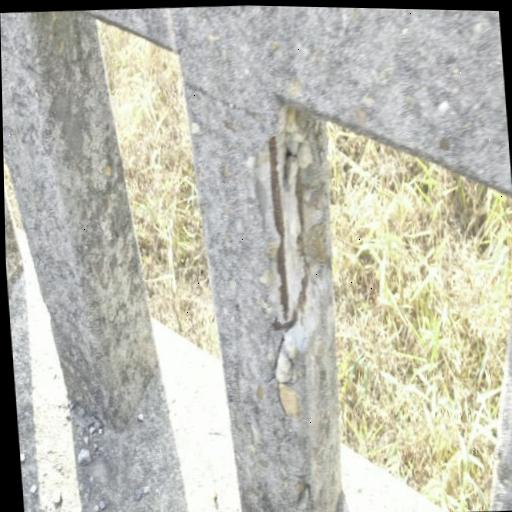exposed_rebar: (269, 137, 289, 320)
spalling: (268, 108, 307, 329)
